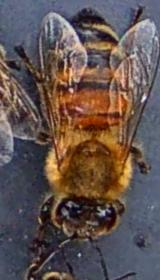varroa_mite: (59, 94, 85, 122)
